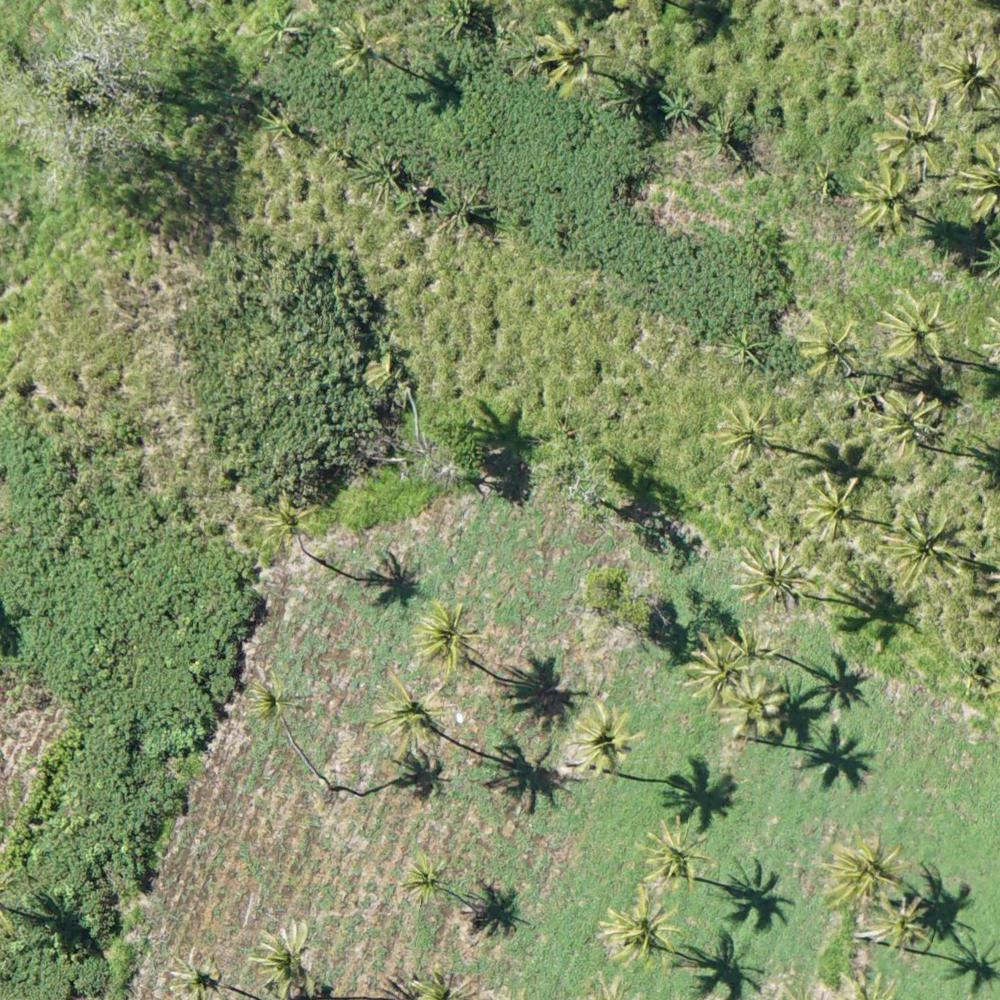Palm: (822, 844, 904, 911), (880, 291, 953, 366), (537, 21, 608, 97), (372, 674, 445, 747), (886, 509, 961, 580), (603, 894, 681, 961), (795, 312, 865, 383), (568, 704, 637, 776), (413, 604, 483, 674), (874, 392, 947, 458), (711, 398, 781, 466), (742, 542, 813, 607), (856, 171, 925, 236), (639, 822, 711, 884), (934, 45, 1000, 111), (878, 104, 946, 168), (261, 922, 318, 994), (334, 13, 401, 73), (804, 475, 865, 539), (683, 639, 751, 696), (867, 896, 932, 955), (724, 678, 784, 739), (258, 491, 320, 547), (166, 948, 223, 1000), (401, 848, 450, 899), (247, 675, 298, 724)
